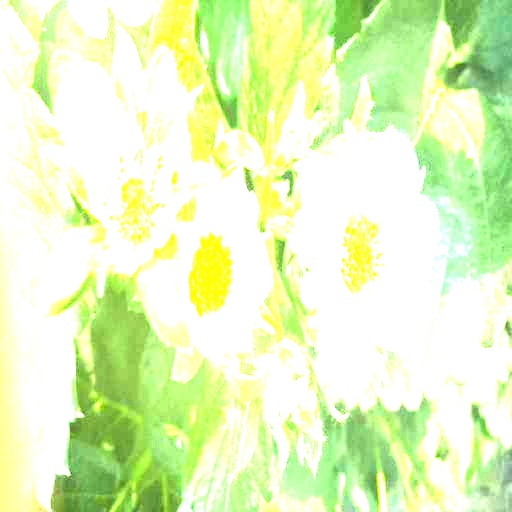Blossom Blight: (95, 145, 170, 264), (332, 203, 391, 321)
